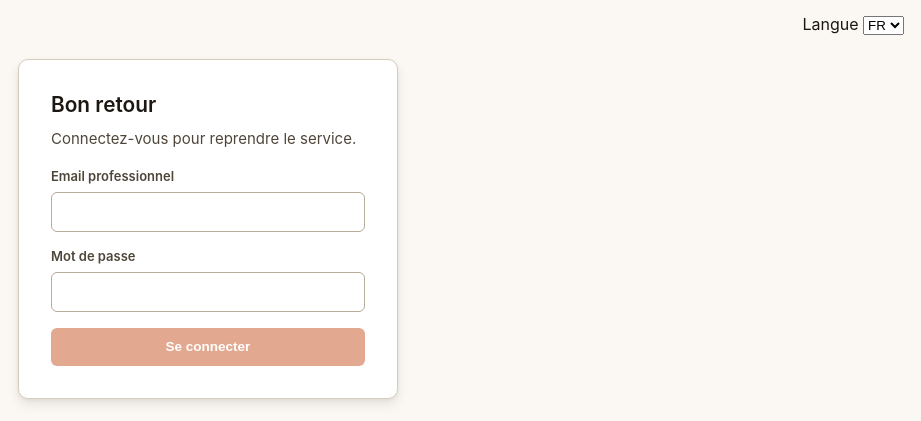
Test: LoginScreen › bascule sur la saisie du code quand le compte a la 2FA activée
Step 1. Type "a@b.com" into the field with id "login-email" → (208, 212), box 51,192 -> 365,232
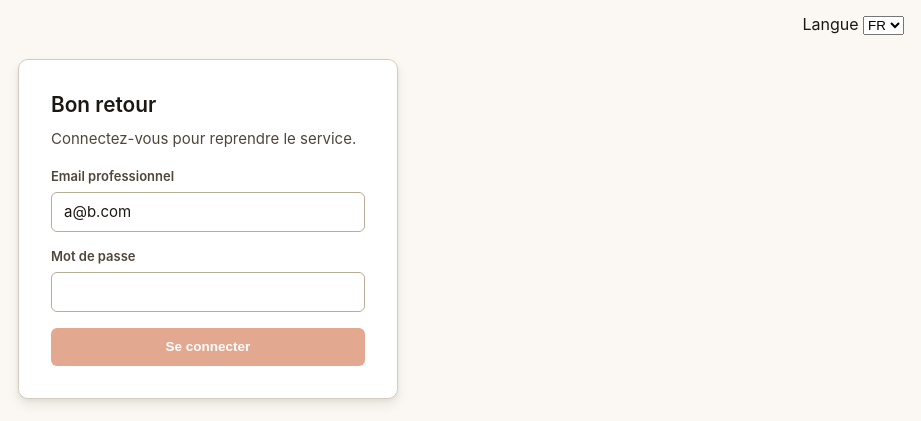
Step 2. Type "secret1234" into the password field with id "login-password" → (208, 292), box 51,272 -> 365,312
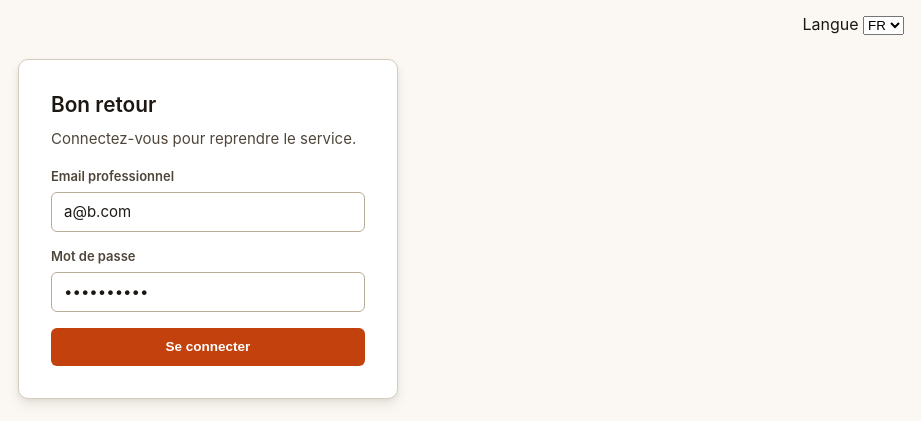
Step 3. Submit the form, box 51,168 -> 365,366
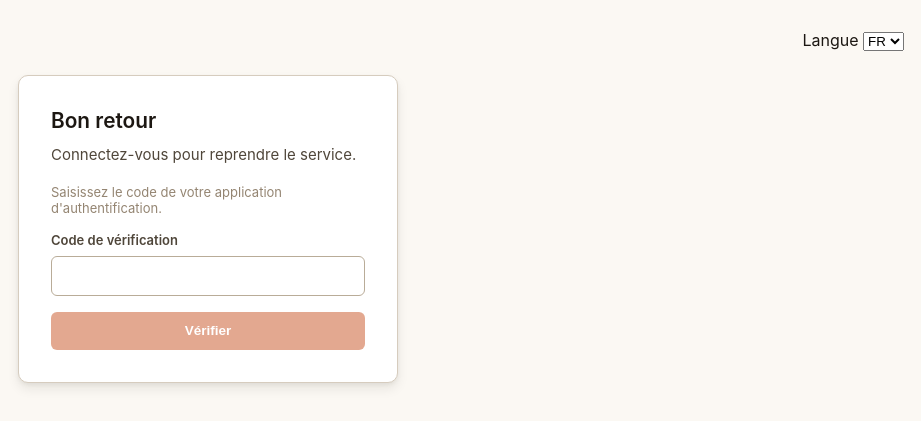
Check: the field with id "login-2fa-code" is shown, box 51,256 -> 365,296
